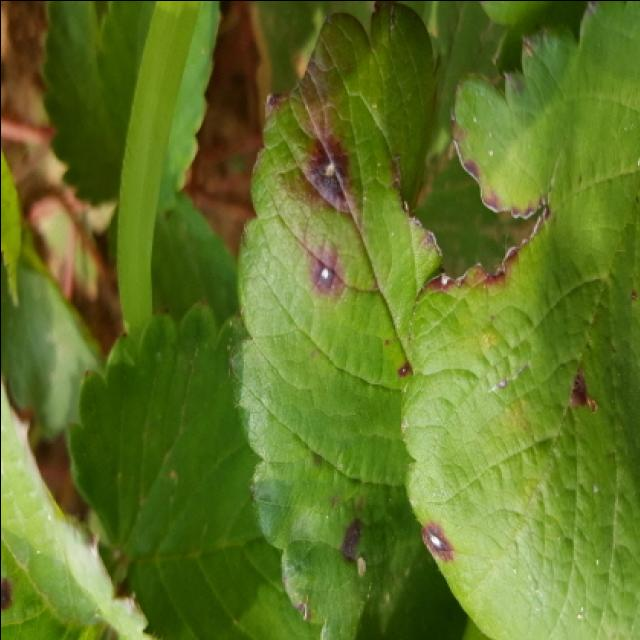Leaf Spot: (399, 2, 638, 640), (227, 2, 465, 640)
